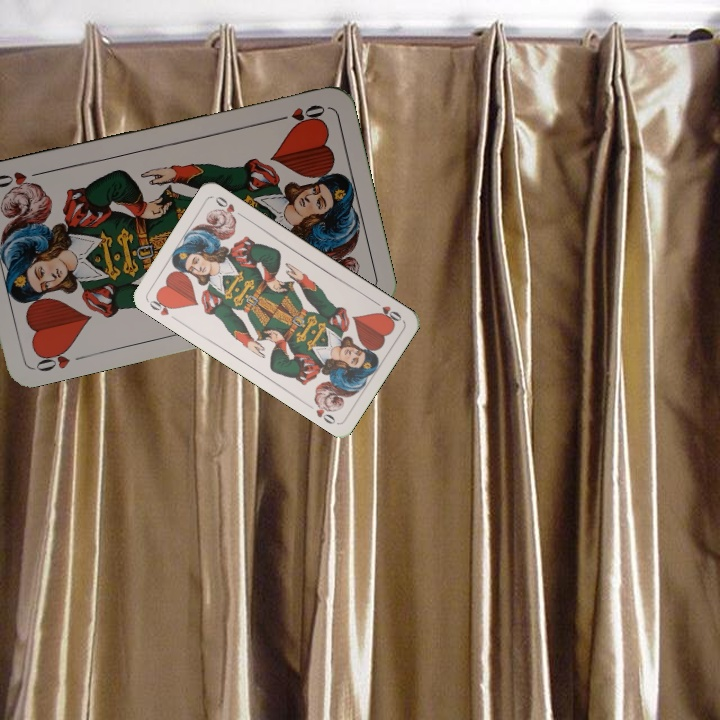HO: (270, 100, 328, 126), (31, 342, 74, 374), (144, 292, 180, 323), (369, 296, 404, 325)
